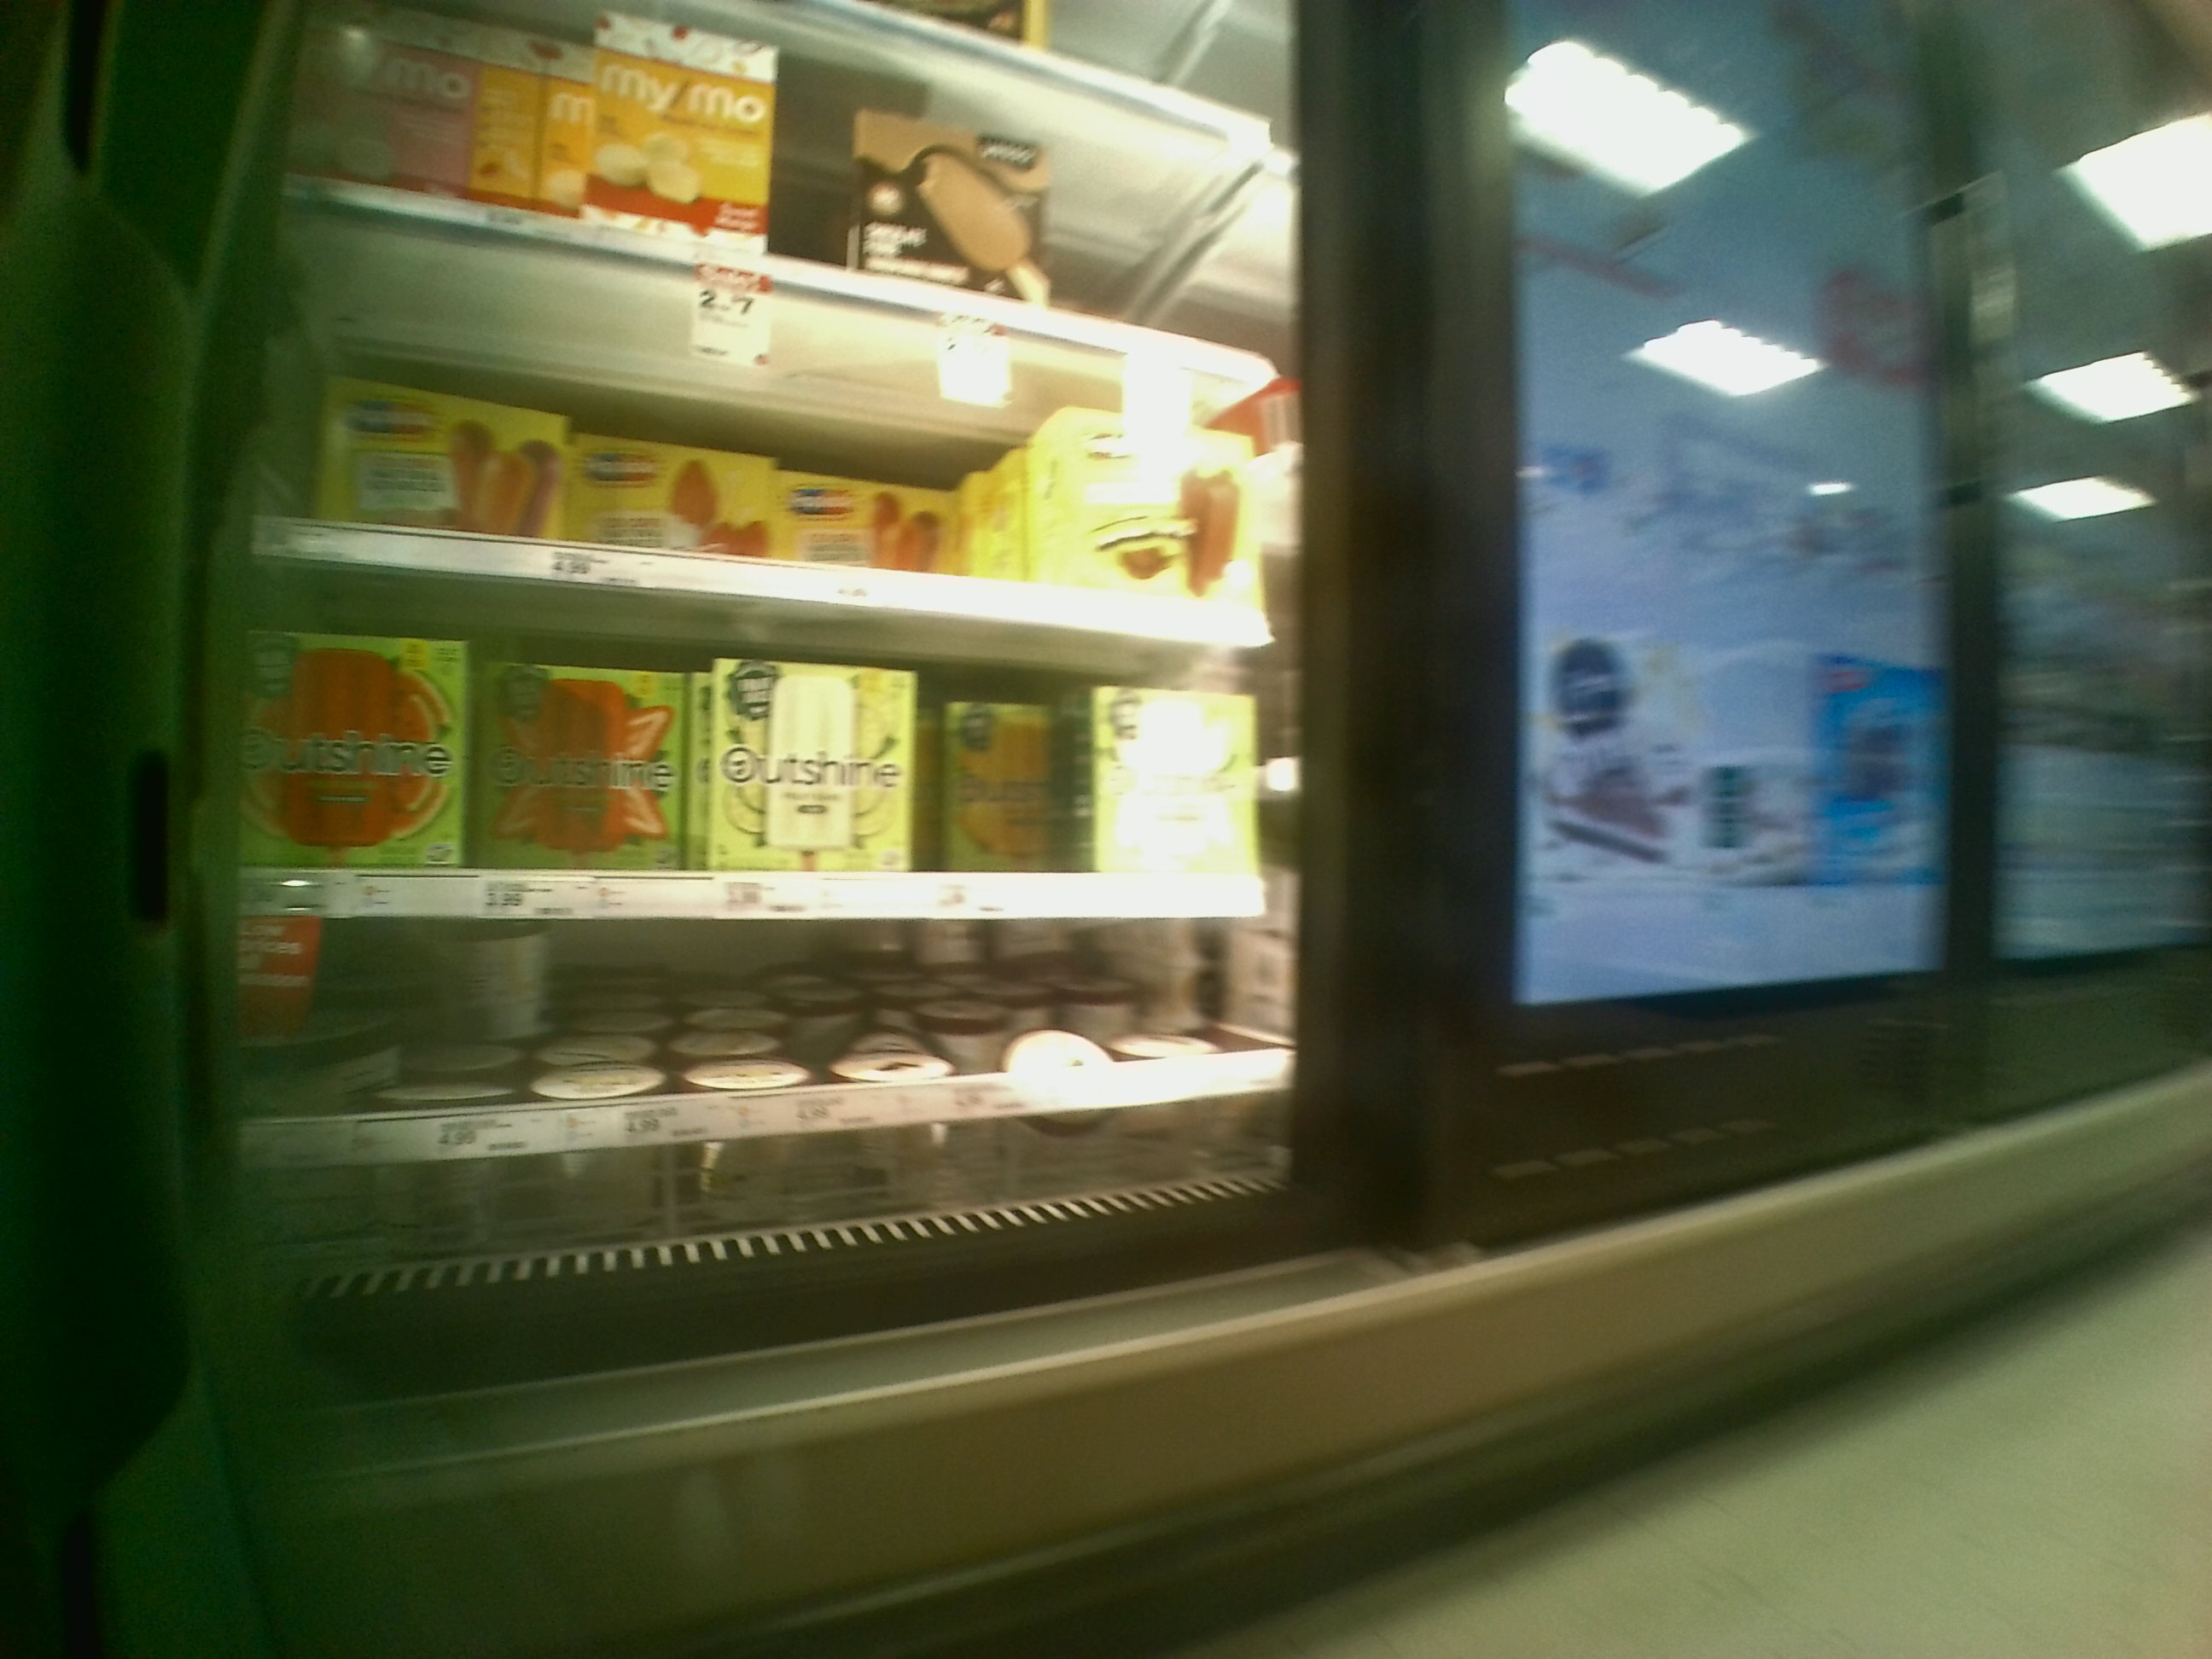shelf: (249, 176, 1275, 652), (249, 561, 1285, 917), (249, 918, 1298, 1183)
